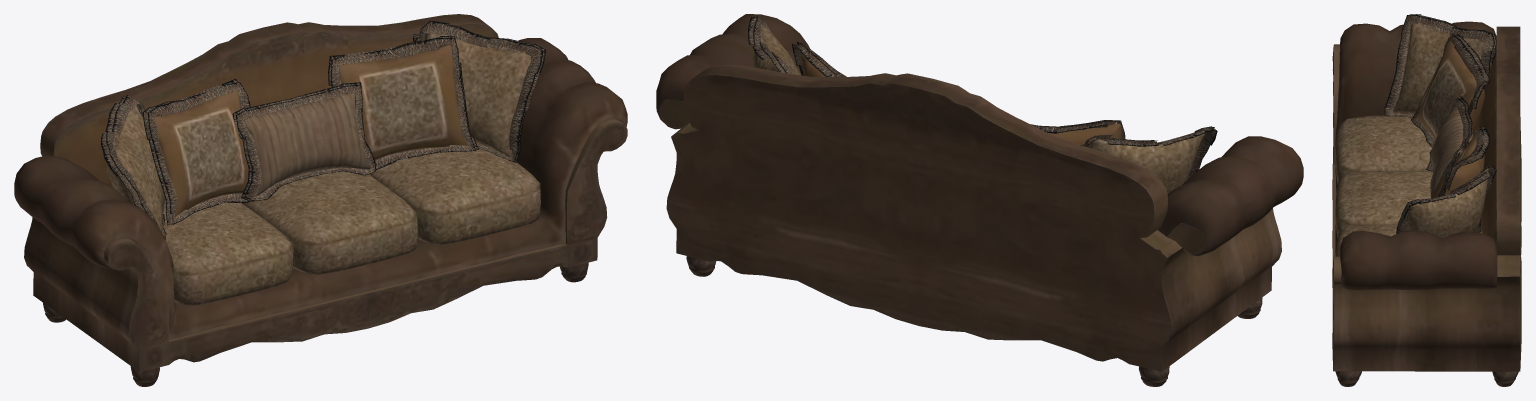
The model's file is sofa_03.glb.
The picture shows the model from 3 angles, left to right: view 1: azimuth 30°, elevation 25°; view 2: azimuth 150°, elevation 25°; view 3: azimuth 270°, elevation 25°; orthographic projection. The views are drawn at different scales.
Parts seen in each view (by area): view 1: sofa_03; view 2: sofa_03; view 3: sofa_03.
Boxes of the visible parts, bbox=[...] form: sofa_03: bbox=[14, 14, 627, 386]; sofa_03: bbox=[656, 14, 1303, 386]; sofa_03: bbox=[1332, 14, 1521, 386].
Size of the model in its own units: 2.73 by 1.12 by 0.925.
Materials: 4 (4 with a texture image).
